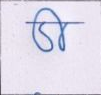i_matra: (44, 7, 70, 51)
